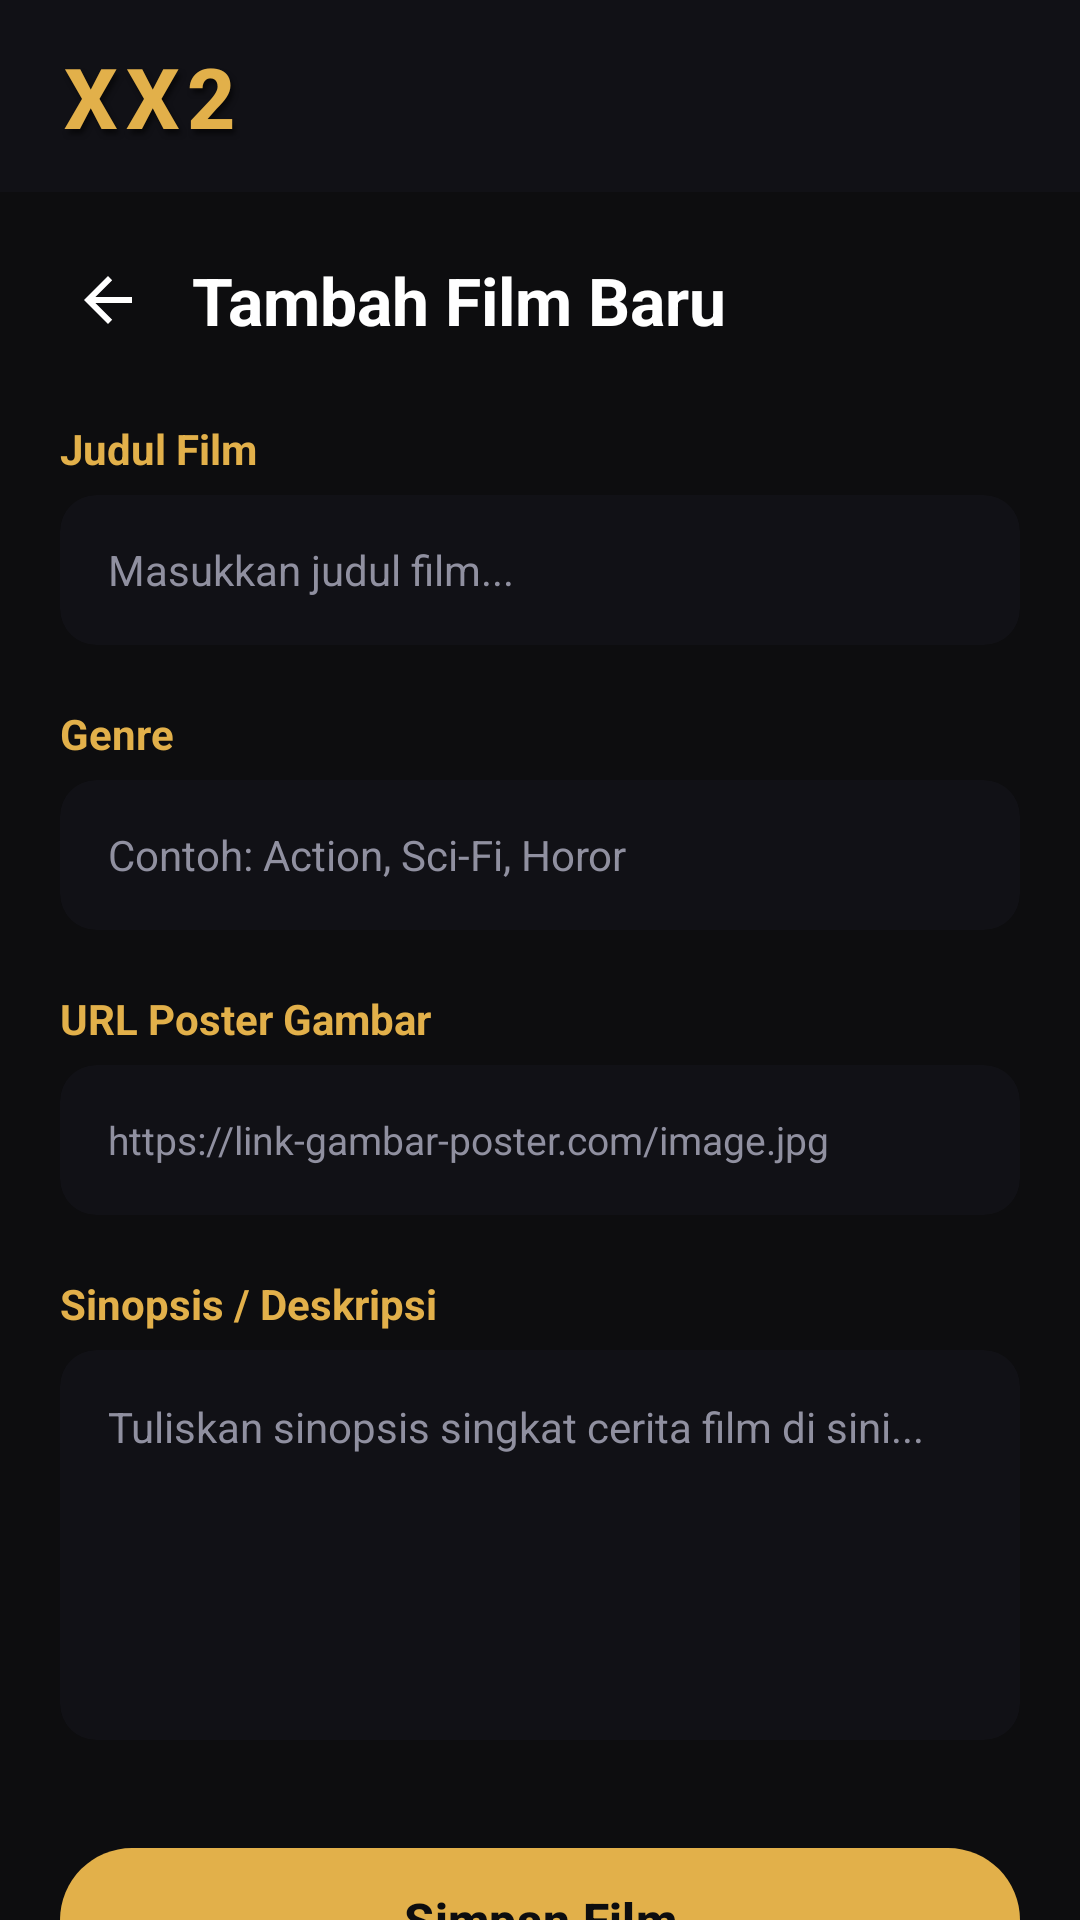

Point at icon controls on the screen. Image size 1080x1920, points as point (x, y).
Kembali: point (108, 300)
